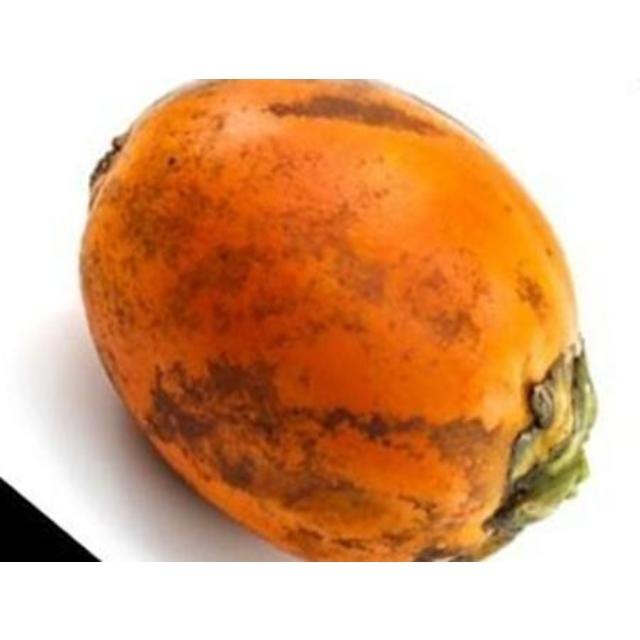good: (78, 78, 599, 560)
